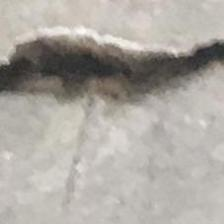Crack: (1, 7, 224, 136)
